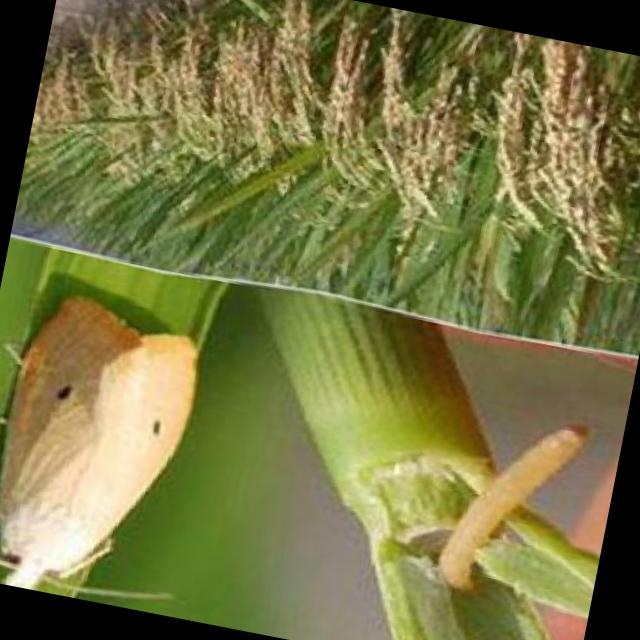stem-borer: (0, 275, 216, 614)
